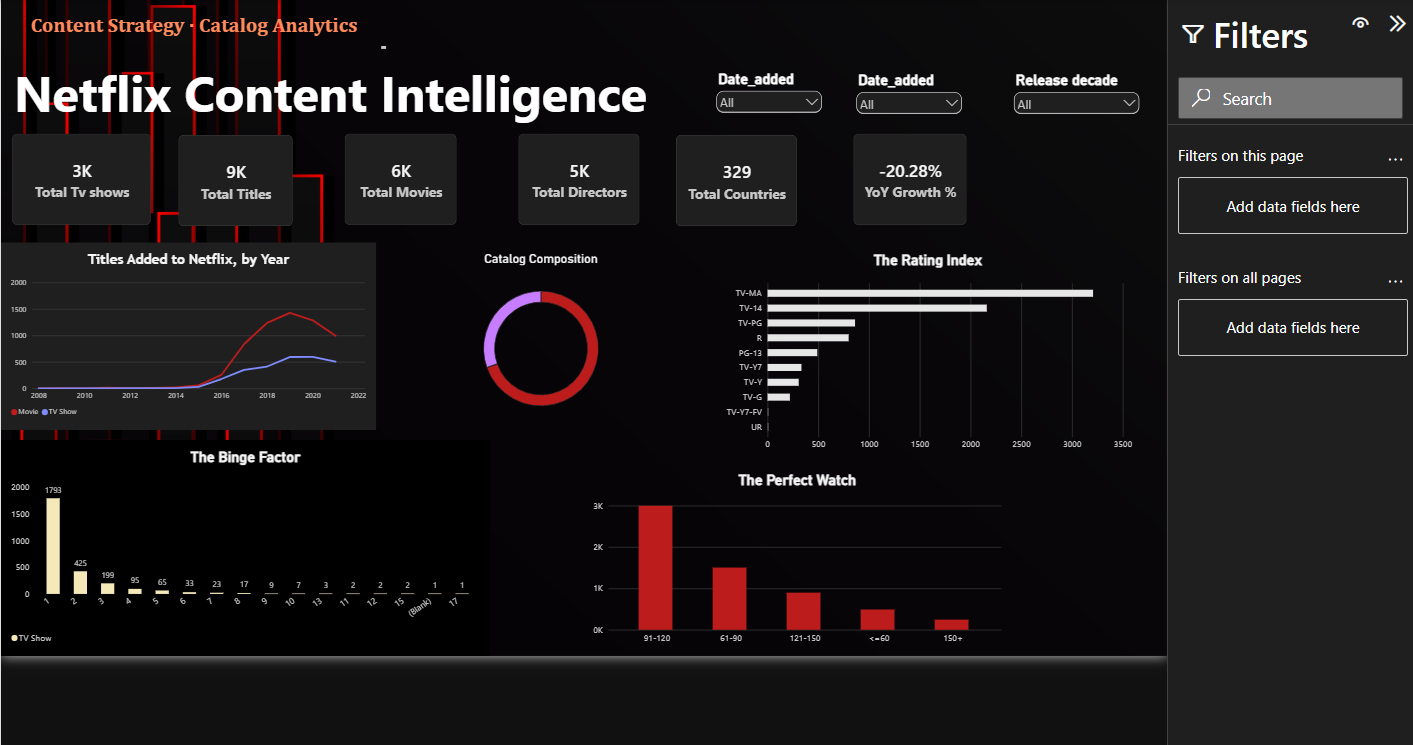

Layout of this report page (visuals, bound fields, positions):
{"tool":"powerbi","page":{"name":"Page 1","canvas":[1920,1080],"ordinal":0},"visuals":[{"type":"textbox","title":"Netflix Content Intelligence","box":[0,98.8,1084.7,105],"z":0},{"type":"cardVisual","fields":{"Data":["Raw Netflix Data.Total Tv shows"]},"box":[18.5,220.2,228.5,150.3],"z":1000},{"type":"cardVisual","fields":{"Data":["Raw Netflix Data.Total Movies"]},"box":[566,220,184,150],"z":2000},{"type":"cardVisual","fields":{"Data":["Raw Netflix Data.Total Directors"]},"box":[852.1,220.2,199.7,150.3],"z":3000},{"type":"cardVisual","fields":{"Data":["Raw Netflix Data.Total Titles"]},"box":[292,222,188,150],"z":4000},{"type":"cardVisual","fields":{"Data":["Raw Netflix Data.YoY Growth %"]},"box":[1404,220,186,150],"z":5000},{"type":"lineChart","title":"Titles Added to Netflix, by Year","fields":{"Category":["Raw Netflix Data.Year Added"],"Series":["Raw Netflix Data.type"],"Y":["Raw Netflix Data.Total Titles"]},"box":[0,399.3,617.5,308.7],"z":6000},{"type":"clusteredBarChart","title":"The Rating Index","fields":{"Category":["Raw Netflix Data.rating"],"Y":["Raw Netflix Data.Total Titles"]},"box":[1173.2,399.3,706,362.3],"z":7000},{"type":"clusteredColumnChart","title":"The Binge Factor","fields":{"Category":["Raw Netflix Data.Number of Seasons"],"Series":["Raw Netflix Data.type"],"Y":["Raw Netflix Data.Total Titles"]},"box":[0,724.5,804.8,356.1],"z":8000},{"type":"clusteredColumnChart","title":"The Perfect Watch","fields":{"Category":["Raw Netflix Data.Runtime Bucket"],"Y":["Raw Netflix Data.Total Movies"]},"box":[959.2,761.6,703.9,319],"z":9000},{"type":"slicer","fields":{"Values":["Raw Netflix Data.date_added"]},"box":[1403.8,117.3,183.2,72],"z":10000},{"type":"cardVisual","fields":{"Data":["Raw Netflix Data.Total Countries"]},"box":[1111.5,222.3,199.7,150.3],"z":11000},{"type":"textbox","title":"Content Strategy · Catalog Analytics","box":[2.1,20.6,631.9,59.7],"z":12000},{"type":"donutChart","title":"Catalog Composition","fields":{"Category":["Raw Netflix Data.type"],"Y":["Raw Netflix Data.Total Titles"]},"box":[634,399.3,510.5,308.7],"z":13000},{"type":"slicer","fields":{"Values":["Raw Netflix Data.type"]},"box":[1173.2,115.3,183.2,72],"z":14000},{"type":"slicer","fields":{"Values":["Raw Netflix Data.Release decade"]},"box":[1663.1,117.3,216.1,72],"z":15000}]}

Visuals, with their boxes on the page's 1920x1080 design canvas (x1, y1, x2, y2). These are canvas units, not pixel positions in the 1413x745 screenshot, which may show the page scaled, cropped or inside an application window:
"Netflix Content Intelligence" textbox: crop(0, 99, 1085, 204)
cardVisual - Raw Netflix Data.Total Tv shows: crop(18, 220, 247, 370)
cardVisual - Raw Netflix Data.Total Movies: crop(566, 220, 750, 370)
cardVisual - Raw Netflix Data.Total Directors: crop(852, 220, 1052, 370)
cardVisual - Raw Netflix Data.Total Titles: crop(292, 222, 480, 372)
cardVisual - Raw Netflix Data.YoY Growth %: crop(1404, 220, 1590, 370)
"Titles Added to Netflix, by Year" lineChart: crop(0, 399, 618, 708)
"The Rating Index" clusteredBarChart: crop(1173, 399, 1879, 762)
"The Binge Factor" clusteredColumnChart: crop(0, 724, 805, 1081)
"The Perfect Watch" clusteredColumnChart: crop(959, 762, 1663, 1081)
slicer - Raw Netflix Data.date_added: crop(1404, 117, 1587, 189)
cardVisual - Raw Netflix Data.Total Countries: crop(1112, 222, 1311, 373)
"Content Strategy · Catalog Analytics" textbox: crop(2, 21, 634, 80)
"Catalog Composition" donutChart: crop(634, 399, 1144, 708)
slicer - Raw Netflix Data.type: crop(1173, 115, 1356, 187)
slicer - Raw Netflix Data.Release decade: crop(1663, 117, 1879, 189)
